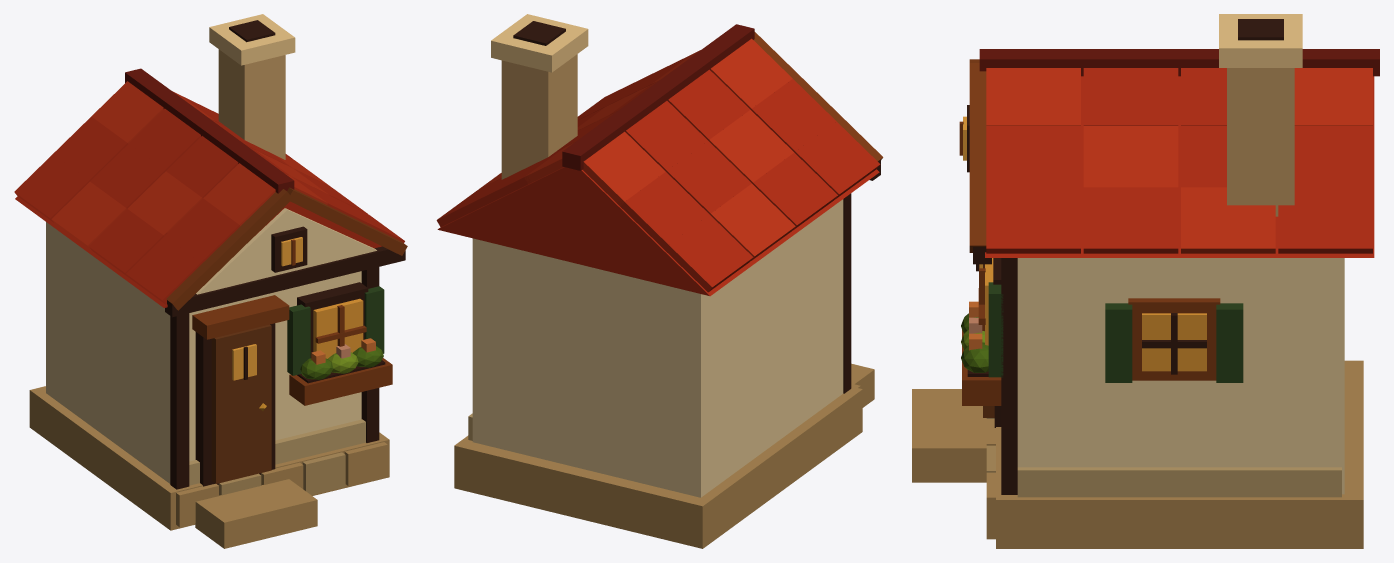
File: residence.obj
3 views of the same model, side by side, from view 1: azimuth 30°, elevation 25°; view 2: azimuth 150°, elevation 25°; view 3: azimuth 270°, elevation 25° (orthographic). The views are drawn at different scales.
Parts seen in each view (by area): view 1: residence; view 2: residence; view 3: residence.
Part boxes in pixels (x1,y1,x2,y2): residence: [14, 14, 407, 548]; residence: [436, 14, 883, 548]; residence: [912, 14, 1379, 548].
Bounding box in the file's own units: 1.35 × 2.03 × 1.73.
Materials: 1 (1 with a texture image).
